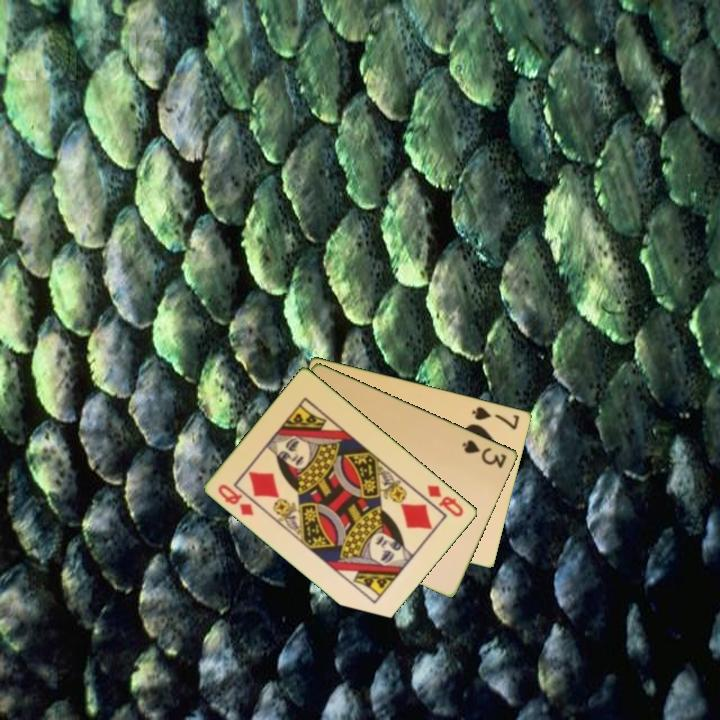3s: (459, 436, 510, 471)
7s: (469, 403, 523, 432)
Qd: (424, 481, 467, 520), (214, 480, 257, 519)
